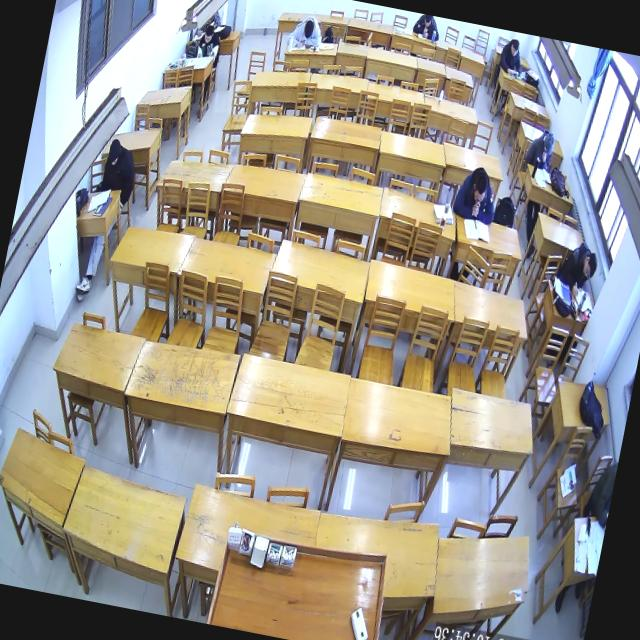bow: (284, 12, 326, 54), (409, 13, 443, 44)
down: (468, 170, 492, 208), (579, 250, 600, 284), (105, 137, 124, 169), (540, 131, 557, 159), (300, 18, 316, 42), (508, 37, 522, 59), (202, 24, 215, 46), (422, 15, 432, 30)
sit: (451, 162, 504, 228), (554, 236, 602, 302), (98, 136, 142, 202), (523, 125, 558, 173), (496, 36, 528, 81), (195, 22, 226, 64)
